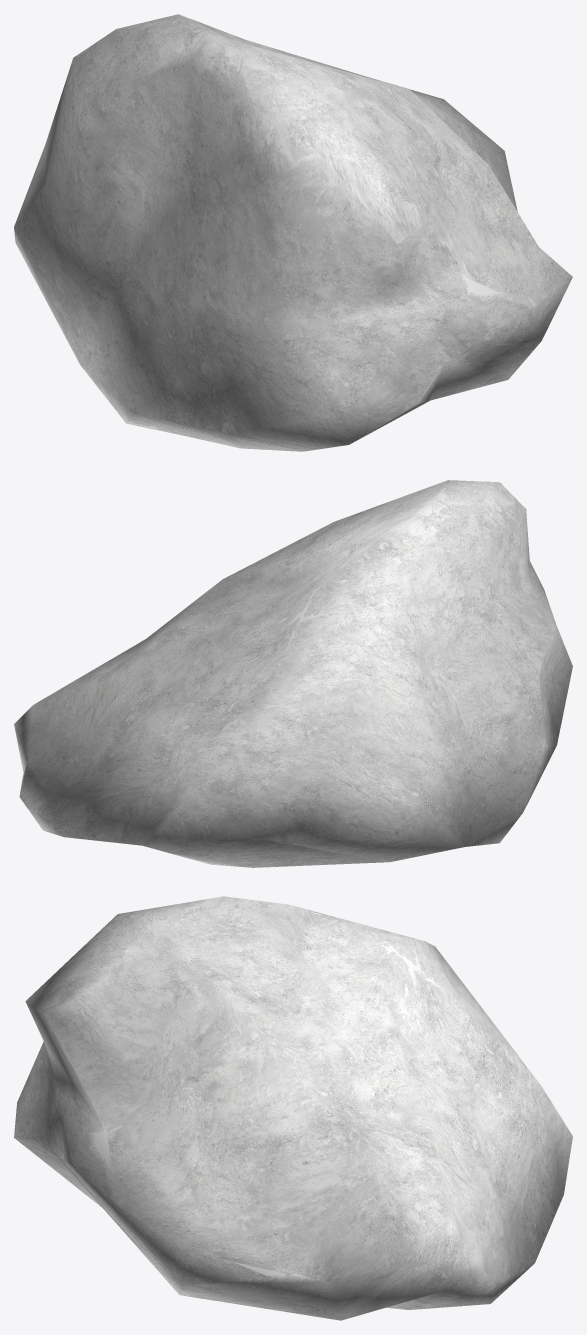
File: rock_00H_lp2.fbx
3 views of the same model, one above another, from view 1: azimuth 30°, elevation 25°; view 2: azimuth 150°, elevation 25°; view 3: azimuth 270°, elevation 25° (orthographic). The views are drawn at different scales.
Parts seen in each view (by area): view 1: rock_00H_lp2; view 2: rock_00H_lp2; view 3: rock_00H_lp2.
Part boxes in pixels (x1,y1,x2,y2): rock_00H_lp2: [14, 14, 572, 451]; rock_00H_lp2: [14, 480, 572, 867]; rock_00H_lp2: [14, 896, 572, 1320].
Size of the model in its own units: 123 by 97.47 by 151.
